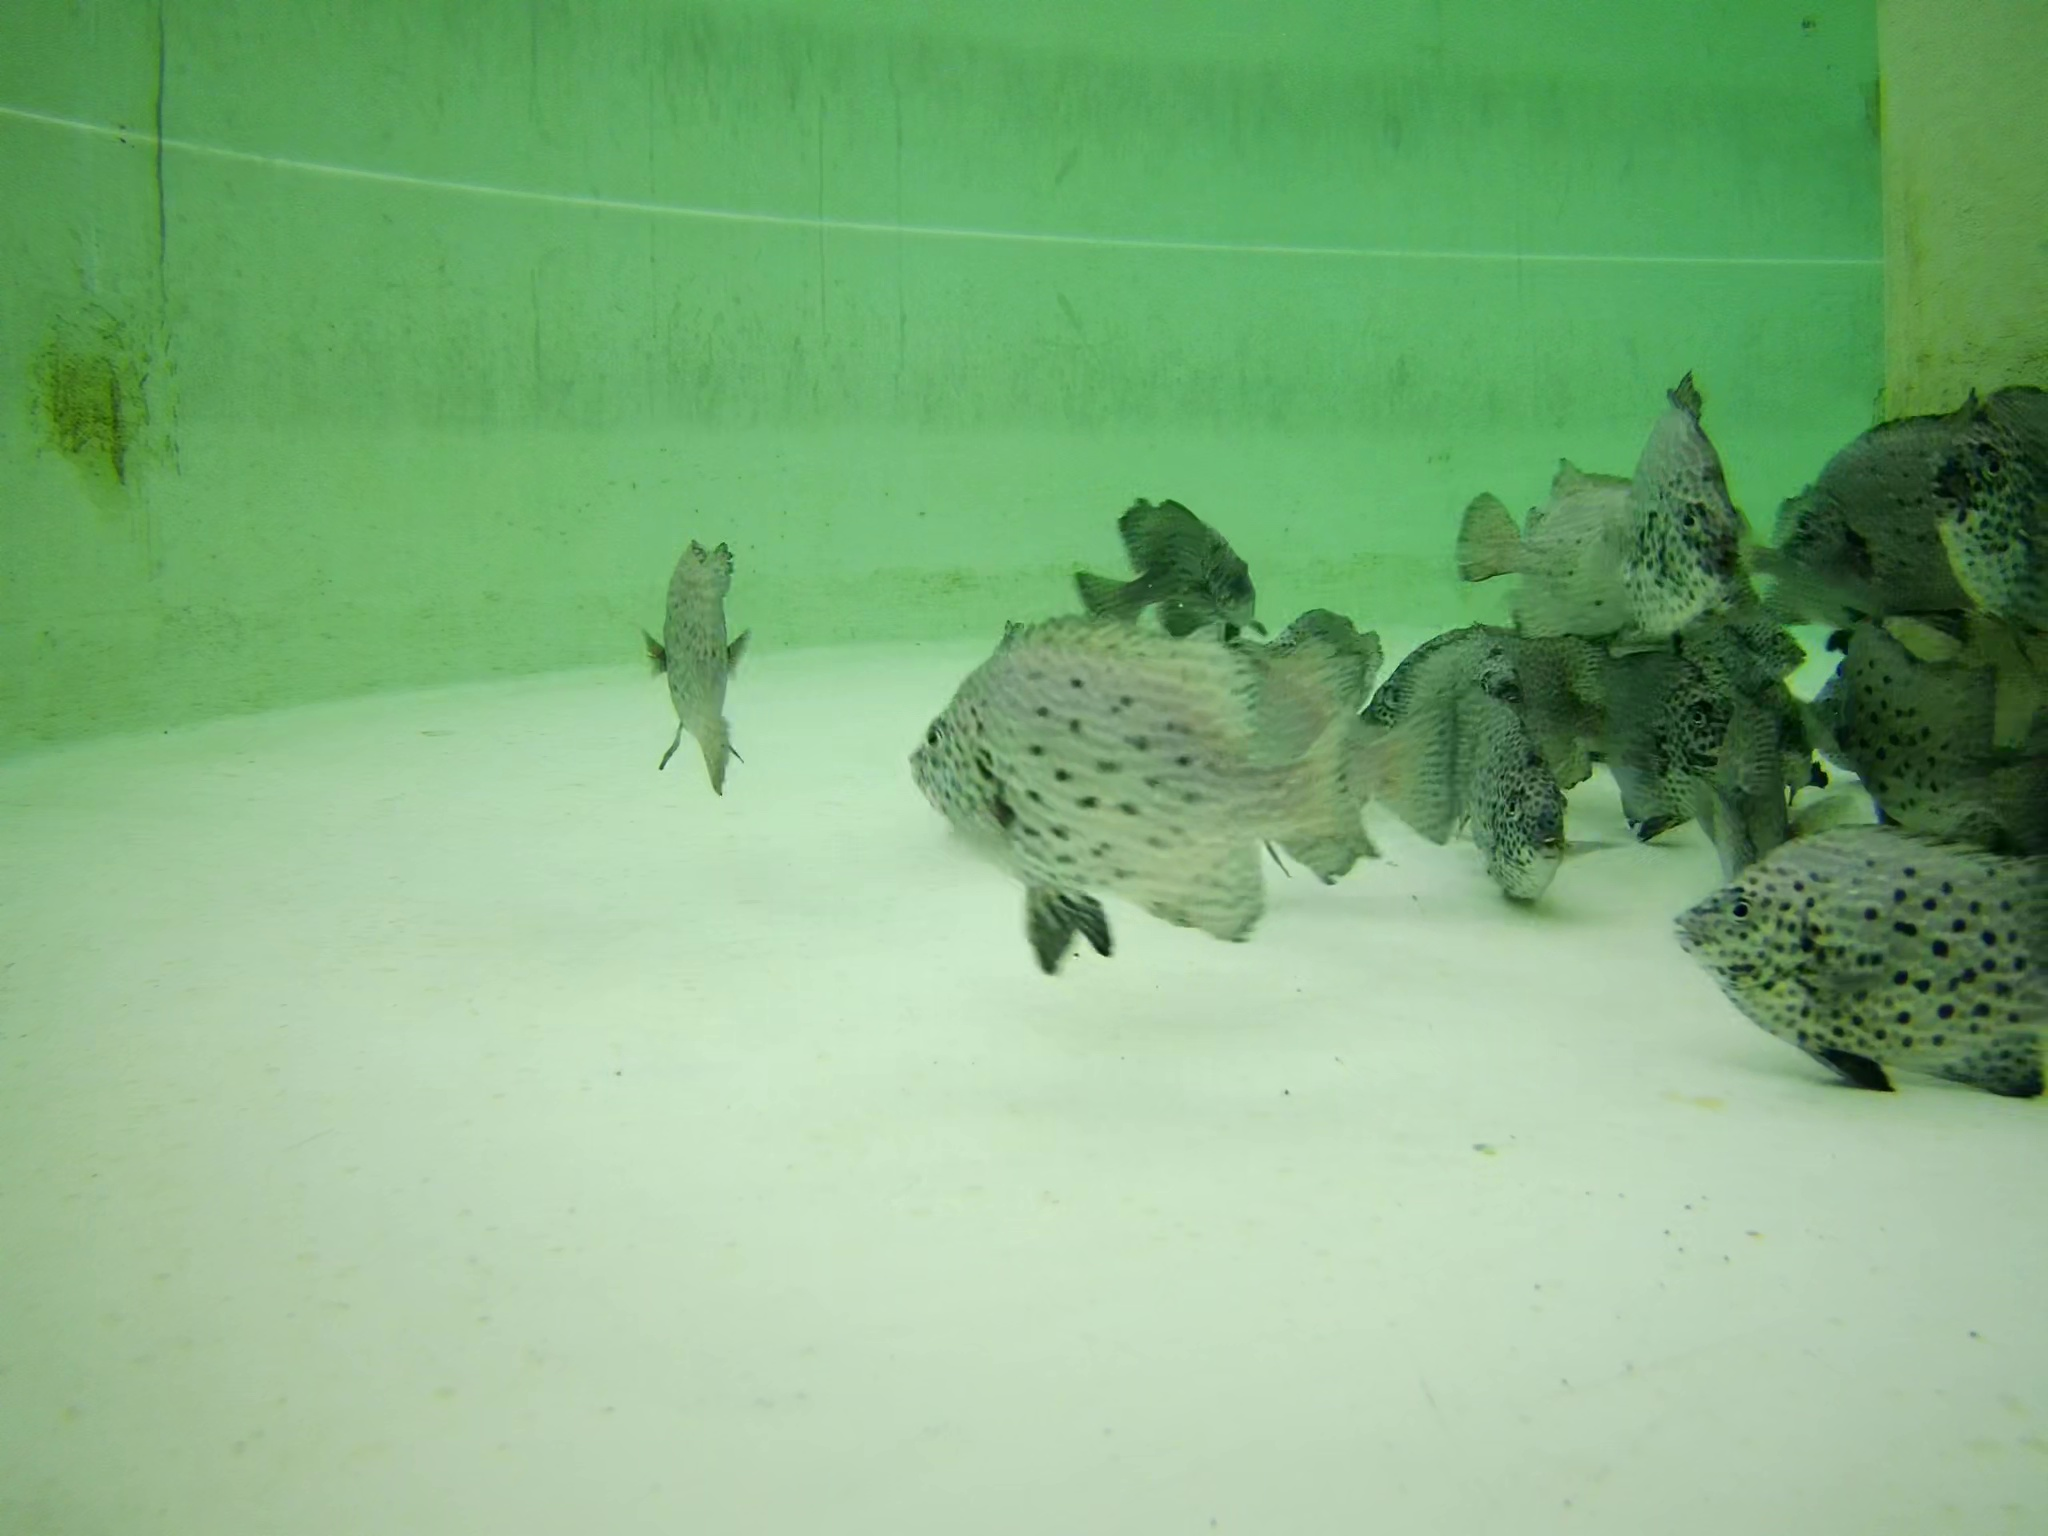fish: (869, 599, 1466, 960), (1664, 828, 2048, 1084), (1759, 405, 2038, 616), (1450, 450, 1663, 632), (1832, 623, 2014, 829), (1374, 624, 1590, 791), (1068, 487, 1279, 631), (1596, 645, 1737, 860), (637, 531, 750, 776), (1624, 373, 1738, 600), (1935, 405, 2048, 613), (1480, 702, 1572, 902)
